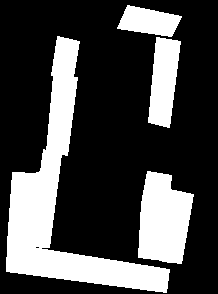parkingspot: (6, 243, 169, 292), (27, 149, 61, 247), (138, 171, 171, 260), (148, 37, 180, 127), (46, 75, 77, 155), (162, 189, 193, 263), (7, 172, 36, 246), (117, 5, 181, 36), (51, 36, 79, 76)
